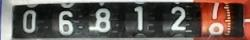digits: (201, 4, 236, 36), (88, 8, 111, 32), (58, 10, 73, 36), (170, 6, 186, 30), (22, 10, 36, 32), (133, 6, 143, 30)
